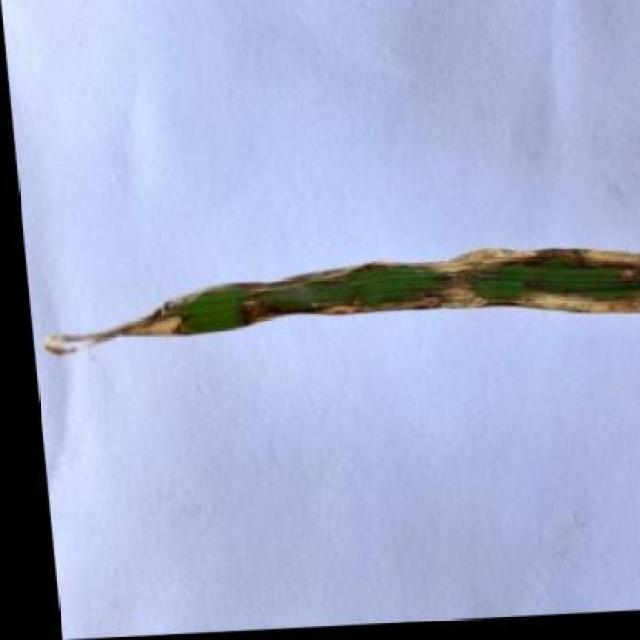Brown_Spot: (20, 242, 640, 367)
